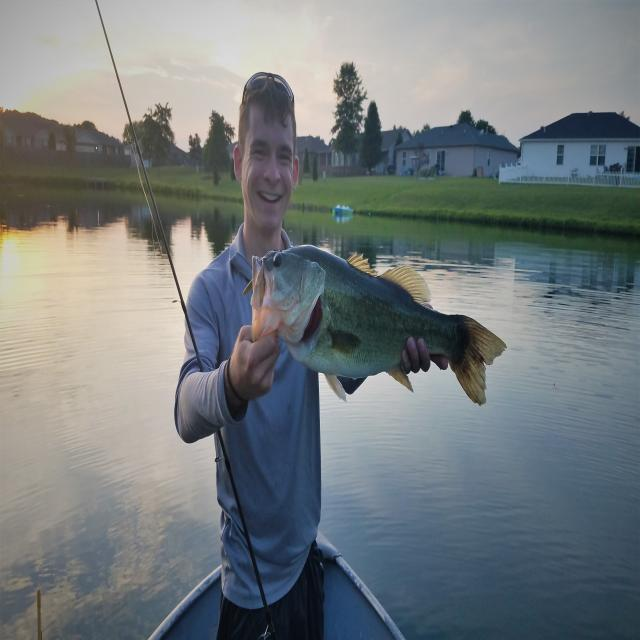Bass - Largemouth: (244, 246, 505, 405)
